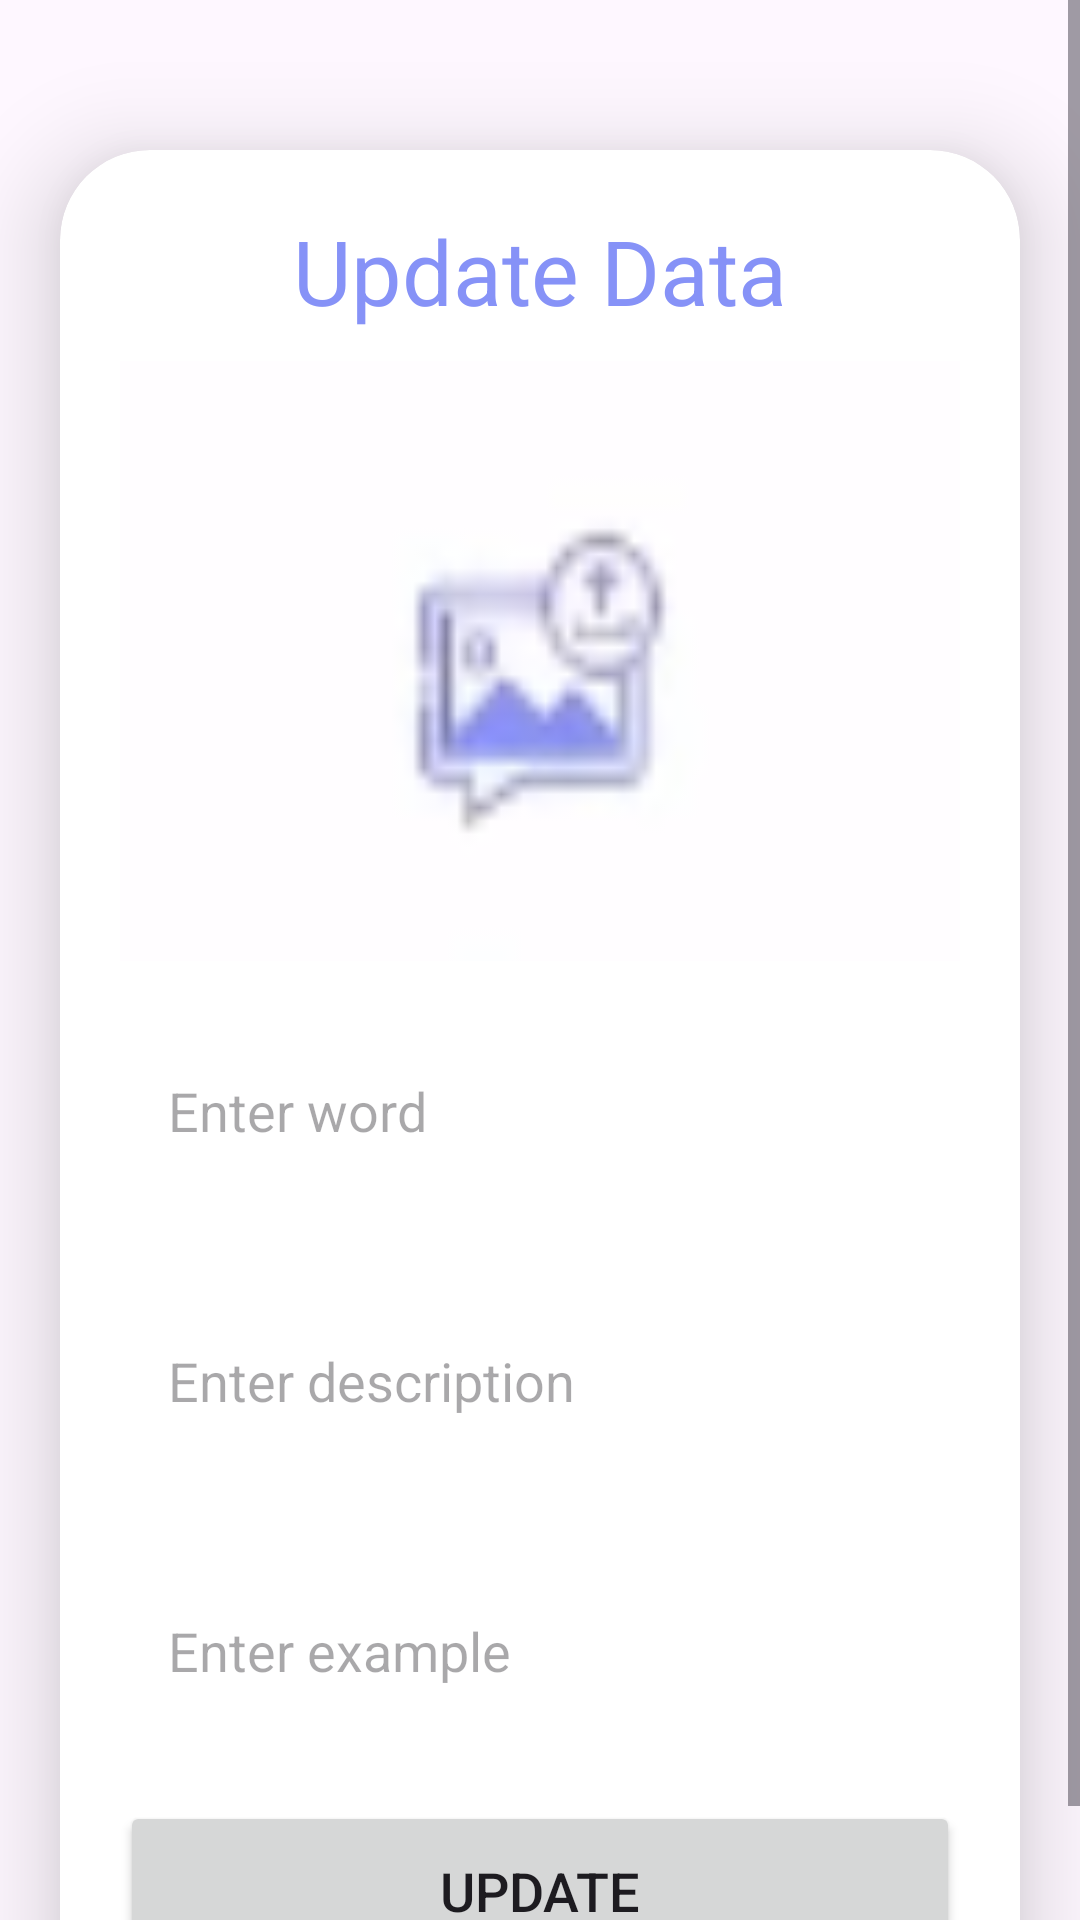

Point at icon controls on the screen. Image size 1080 × 1920, points as [x,y].
uploadimg: [540,679]
